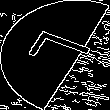L_SE: (16, 30, 94, 80)
